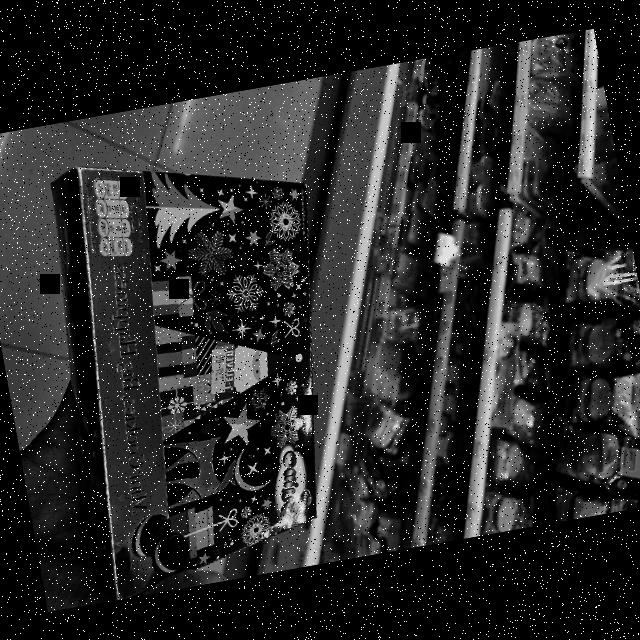cardboard_box: (16, 120, 375, 604)
